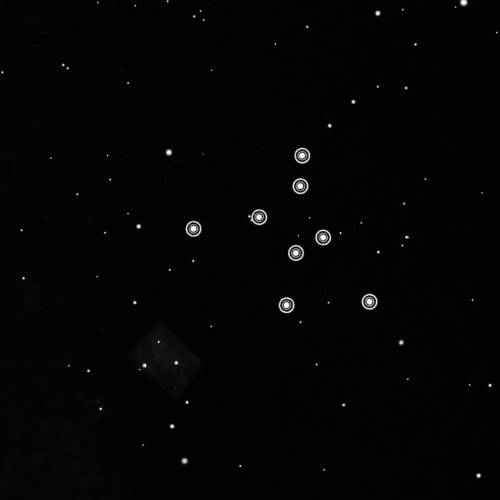hercules: (182, 143, 384, 322)
